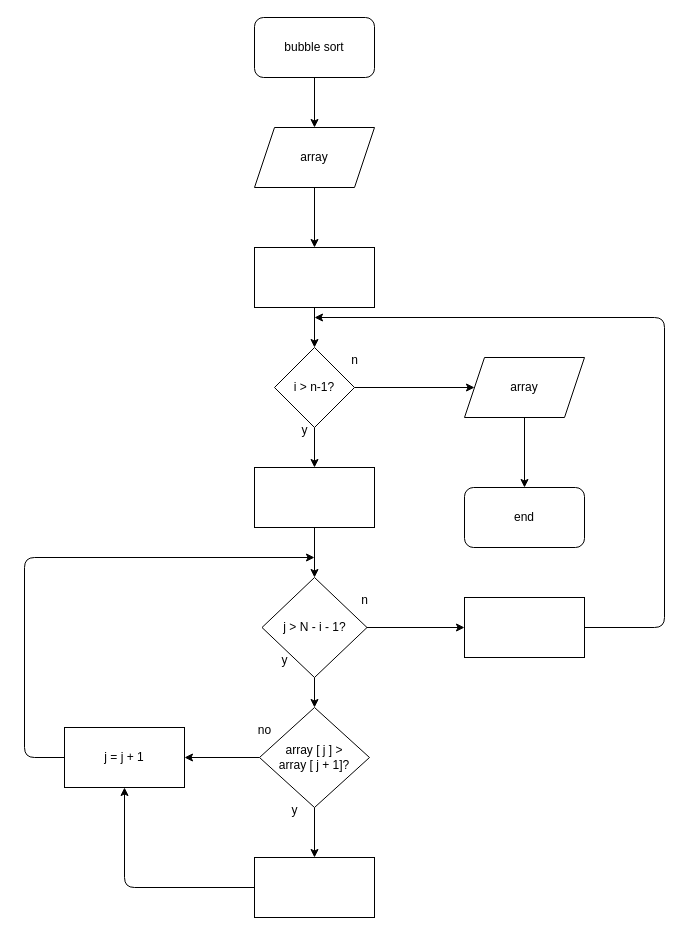
Image size: 690x935. Some labels were removed from this diagram. Here are the shapes that lost their labels. From the top down, the centre of each, then its label:
pixel 314 277: n - length of array i=0
pixel 314 497: j = o
pixel 524 627: i = i + 1
pixel 314 887: swap array [ j ] with array [ j + 1 ]
